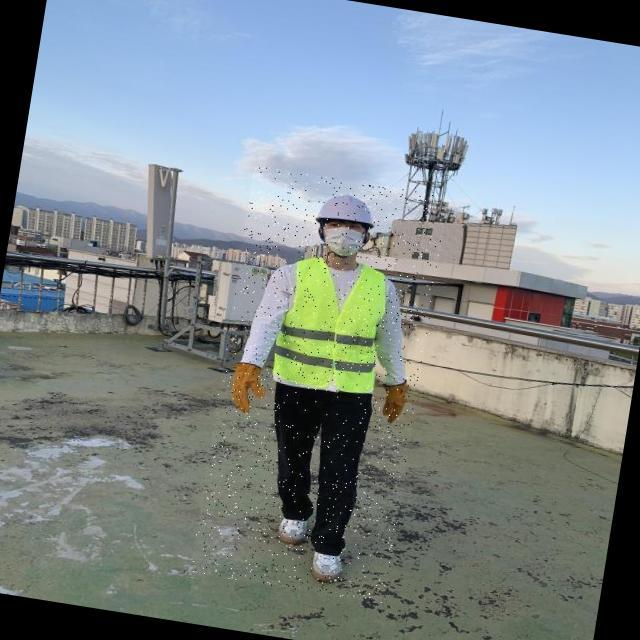Gloves: (228, 360, 270, 417), (378, 377, 410, 426)
Helmet: (314, 189, 379, 231)
Person: (221, 169, 423, 593)
Safety Boot: (307, 552, 345, 586), (275, 517, 309, 547)
Safety Vest: (270, 253, 393, 396)
